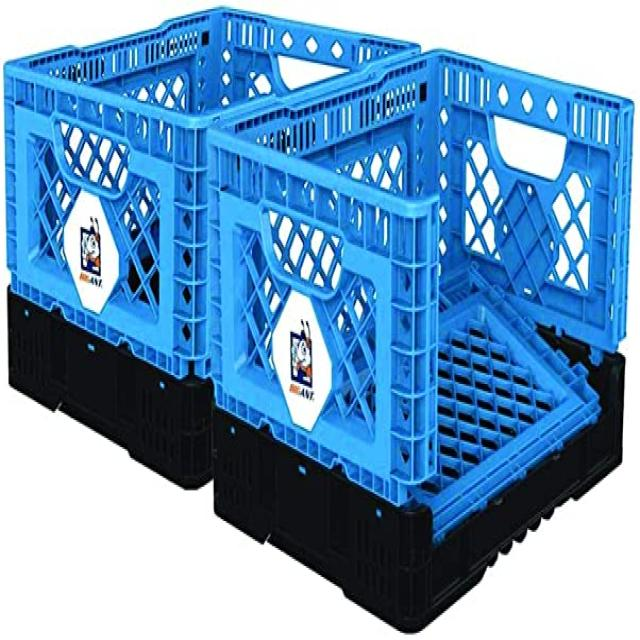basket: (0, 289, 248, 497)
